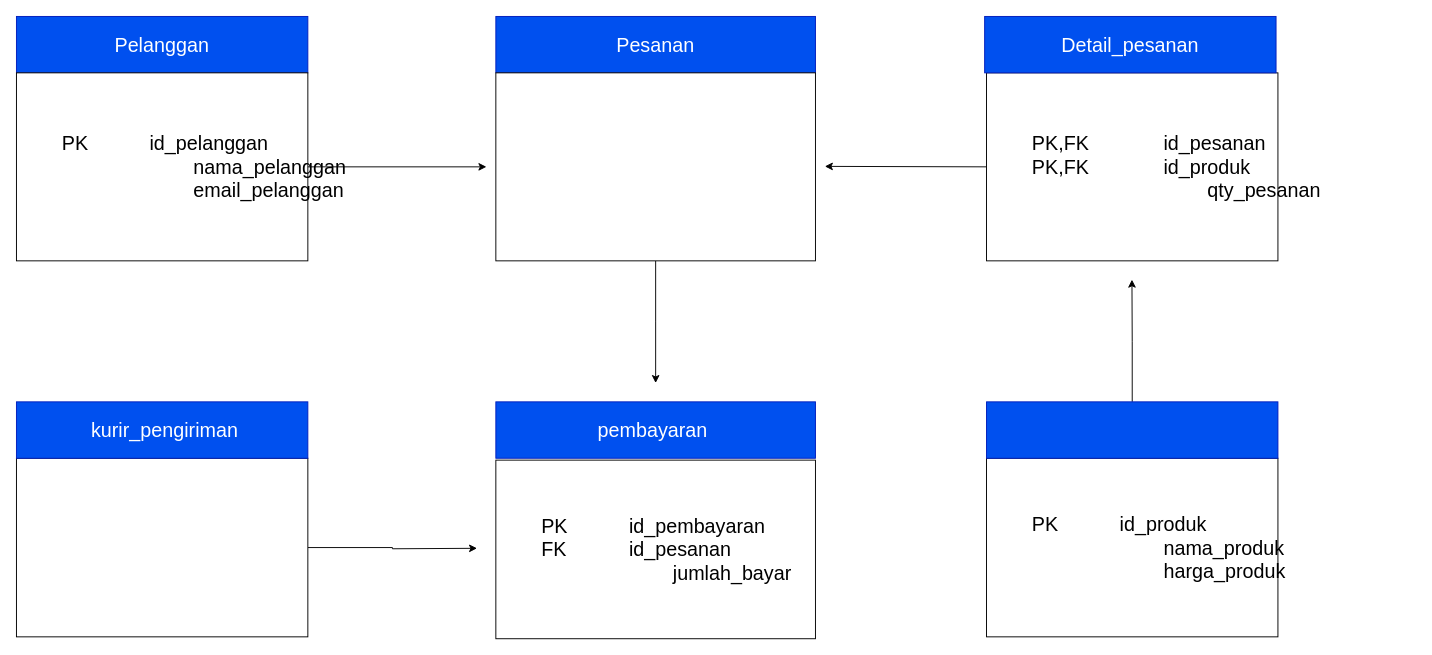
Image size: 1432x655. Some labels were removed from this diagram. Each missing label, with the centre of its shape:
"PK id_kurir nama_kurir tarif_kurir" belongs at point (162, 547).
"PK id_pesanan no_pesanan FK id_pelanggan FK id_kurir" belongs at point (655, 166).
"produk" belongs at point (1132, 429).
